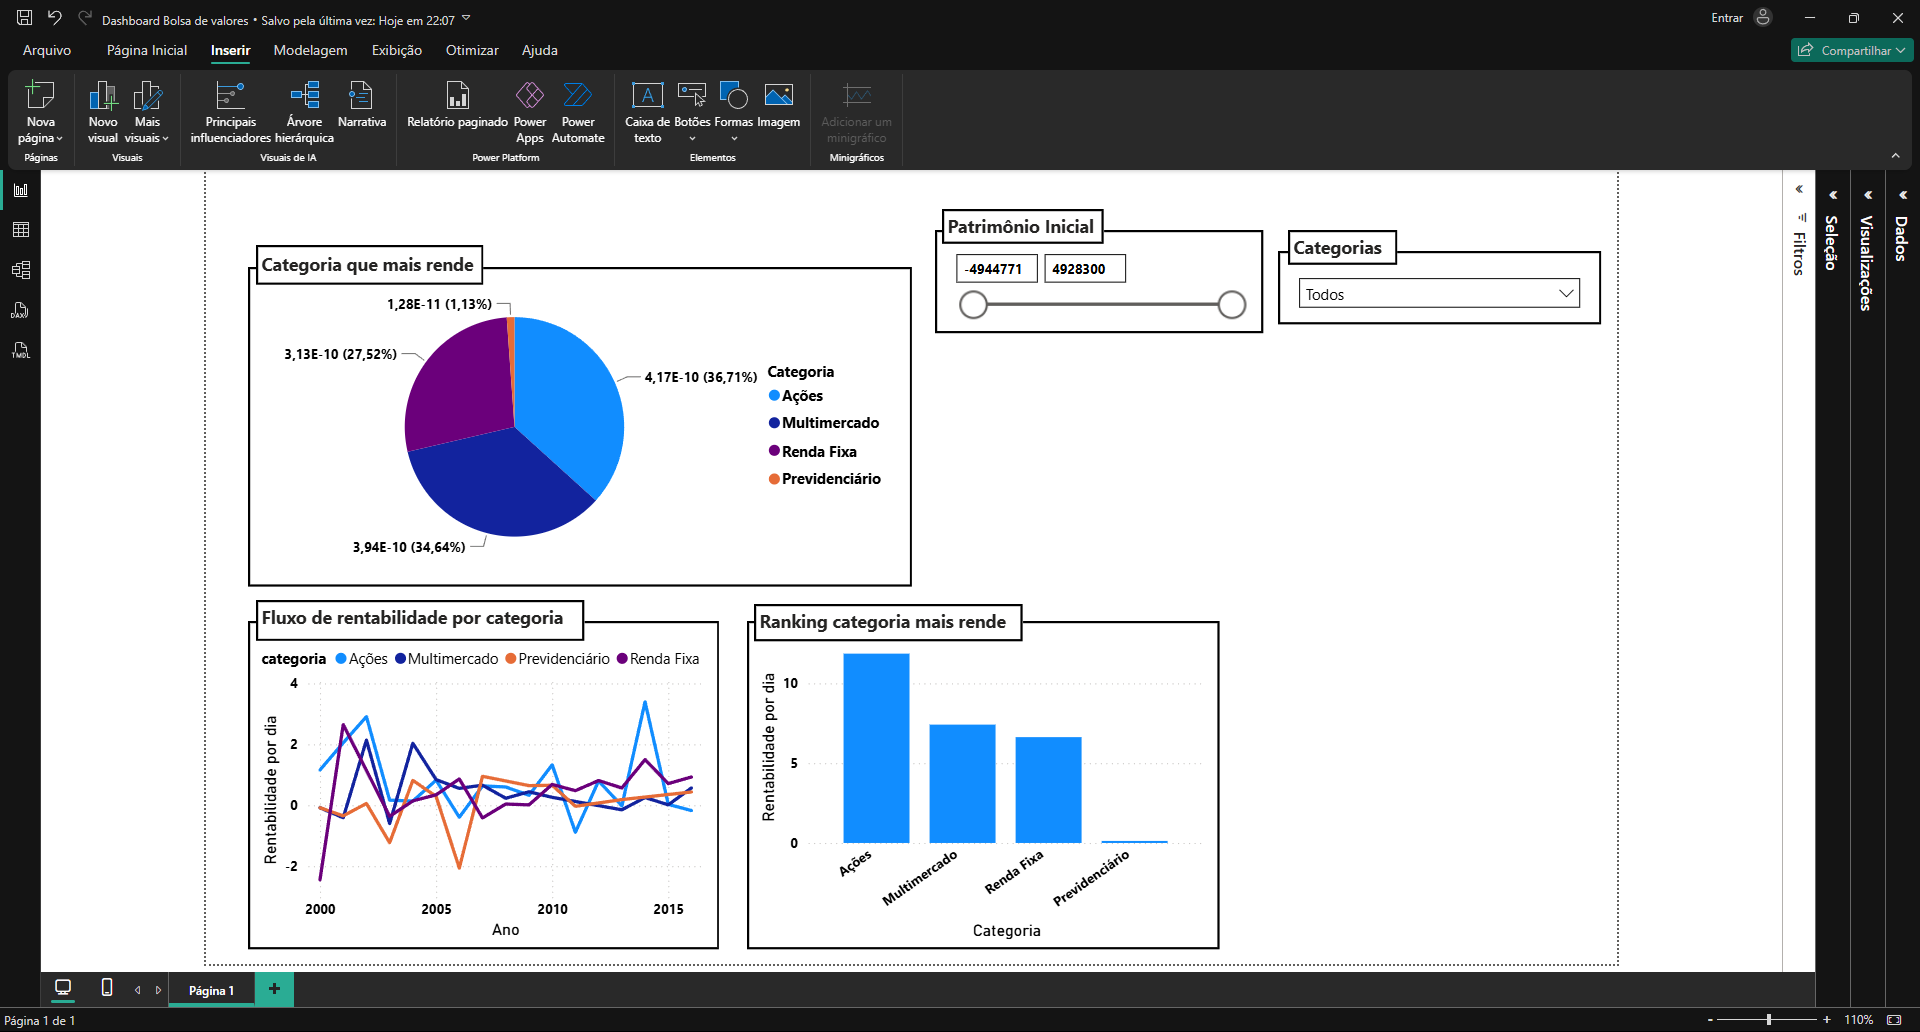

This screenshot's page, from the dashboard's own definition file:
{"tool":"powerbi","page":{"name":"Página 1","canvas":[1280,720],"ordinal":0},"visuals":[{"type":"shape","box":[972.1,73.3,293.2,66.5],"z":0},{"type":"shape","box":[660.9,54.1,297.7,93.6],"z":500},{"type":"shape","box":[490.6,409.4,428.5,297.7],"z":750},{"type":"shape","box":[38.3,409.4,427.4,297.7],"z":875},{"type":"shape","box":[38.3,88,602.2,289.8],"z":937},{"type":"lineChart","fields":{"Category":["tbl_final_processada.data_inicio.Variation.Hierarquia de datas.Ano","tbl_final_processada.data_inicio.Variation.Hierarquia de datas.Trimestre","tbl_final_processada.data_inicio.Variation.Hierarquia de datas.Mês","tbl_final_processada.data_inicio.Variation.Hierarquia de datas.Dia"],"Series":["tbl_final_processada.categoria"],"Y":["Sum(tbl_final_processada.rentabilidade_dia)"]},"box":[45.1,422.9,413.9,279.7],"z":1000},{"type":"pieChart","fields":{"Category":["tbl_final_processada.categoria"],"Y":["tbl_final_processada.Eficiencia_Rentabilidade"]},"box":[45.1,97,580.8,271.8],"z":2000},{"type":"columnChart","fields":{"Category":["tbl_final_processada.categoria"],"Y":["Sum(tbl_final_processada.rentabilidade_dia)"]},"box":[497.3,422.9,413.9,279.7],"z":3000},{"type":"slicer","fields":{"Values":["tbl_final_processada.categoria"]},"box":[981.1,88,275.2,46.2],"z":4000},{"type":"slicer","fields":{"Values":["tbl_final_processada.patrimonio_inicial"]},"box":[667.2,66.1,284,72.9],"z":5000},{"type":"textbox","box":[981.1,54.1,99.2,33.8],"z":5001},{"type":"textbox","box":[667.6,35,146.6,36.1],"z":5002},{"type":"textbox","box":[45.1,69.9,206.4,31.6],"z":5003},{"type":"textbox","box":[497.3,393.6,243.6,31.6],"z":5004},{"type":"textbox","box":[45.1,390.2,297.7,37.2],"z":5005},{"type":"shape","box":[667.6,35,146.6,31.6],"z":5006},{"type":"shape","box":[981.1,54.1,99.2,31.6],"z":5007},{"type":"shape","box":[45.1,67.7,206.4,36.1],"z":5008},{"type":"shape","box":[45.1,390.2,297.7,37.2],"z":5009},{"type":"shape","box":[497.3,393.6,243.6,33.8],"z":5010}]}

Visuals, with their boxes on the page's 1280x720 design canvas (x1, y1, x2, y2). These are canvas units, not pixel positions in the 1920x1032 screenshot, which may show the page scaled, cropped or inside an application window:
shape: (972,73,1265,140)
shape: (661,54,959,148)
shape: (491,409,919,707)
shape: (38,409,466,707)
shape: (38,88,640,378)
lineChart - tbl_final_processada.data_inicio.Variation.Hierarquia de datas.Ano x tbl_final_processada.data_inicio.Variation.Hierarquia de datas.Trimestre: (45,423,459,703)
pieChart - tbl_final_processada.categoria x tbl_final_processada.Eficiencia_Rentabilidade: (45,97,626,369)
columnChart - tbl_final_processada.categoria x Sum(tbl_final_processada.rentabilidade_dia): (497,423,911,703)
slicer - tbl_final_processada.categoria: (981,88,1256,134)
slicer - tbl_final_processada.patrimonio_inicial: (667,66,951,139)
textbox: (981,54,1080,88)
textbox: (668,35,814,71)
textbox: (45,70,252,102)
textbox: (497,394,741,425)
textbox: (45,390,343,427)
shape: (668,35,814,67)
shape: (981,54,1080,86)
shape: (45,68,252,104)
shape: (45,390,343,427)
shape: (497,394,741,427)
